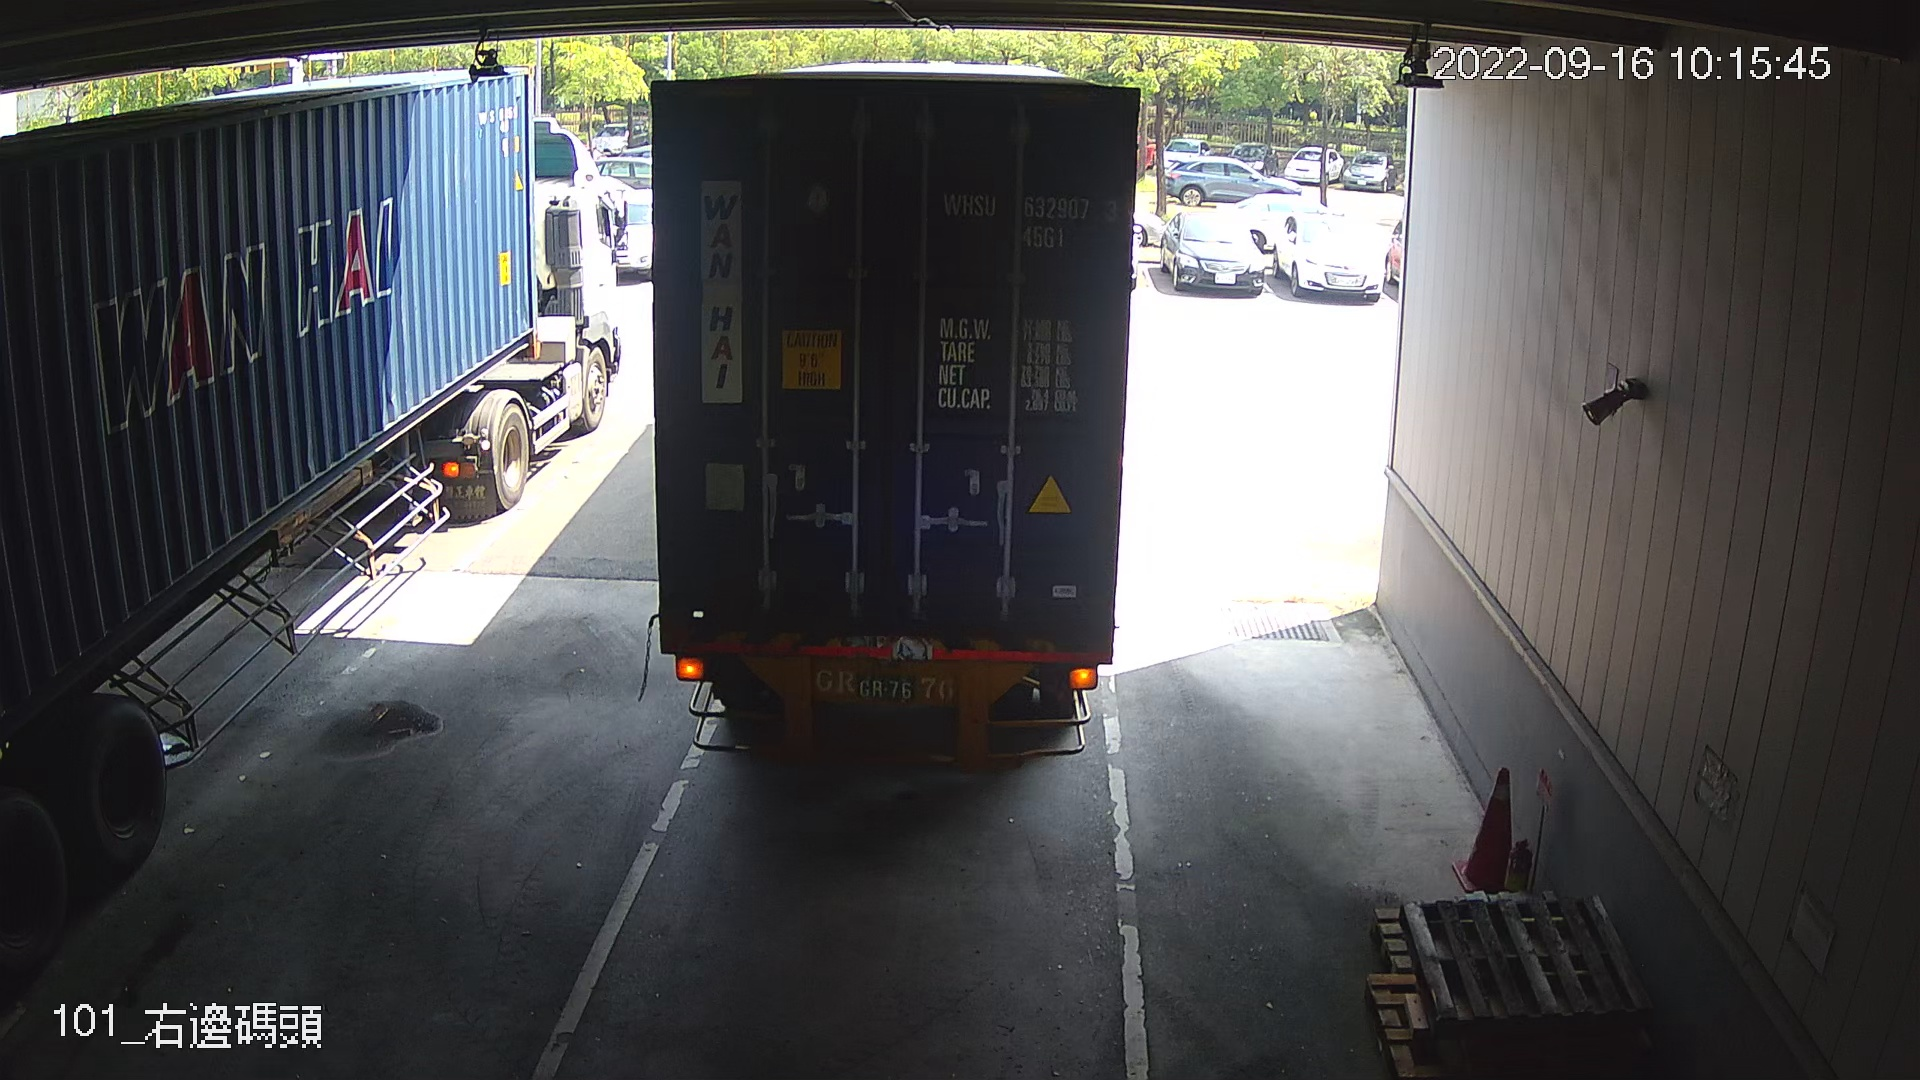container: (931, 183, 1127, 257)
